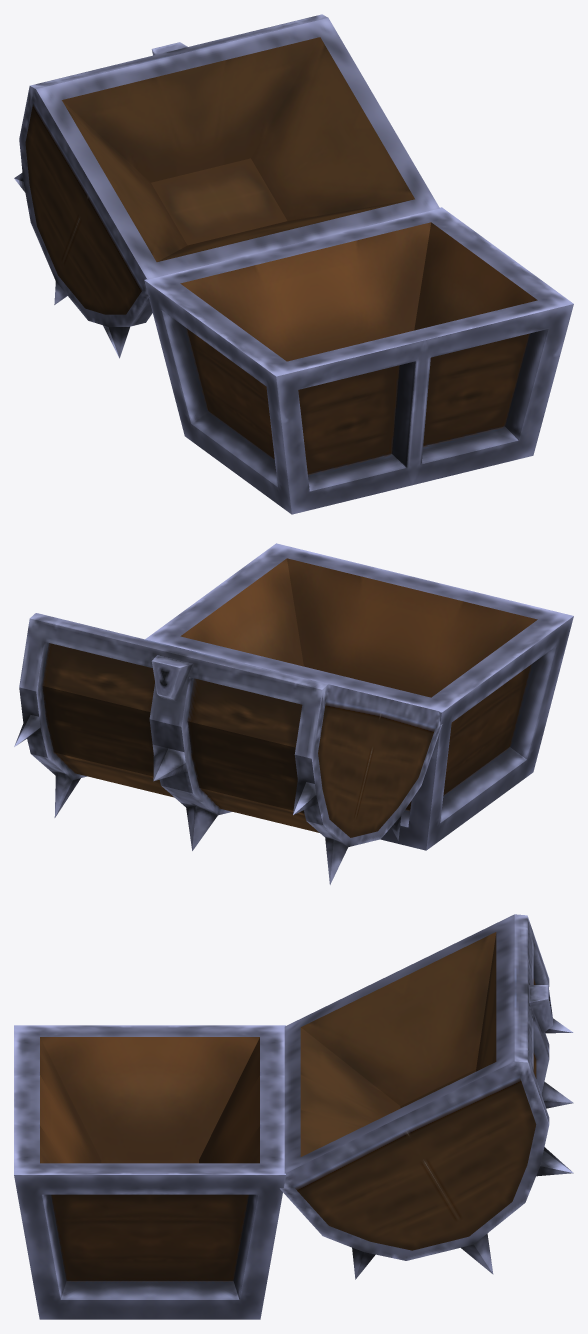
The model's file is cofre bueno_javier.fbx.
3 renders of one model, top to bottom at view 1: azimuth 30°, elevation 25°; view 2: azimuth 150°, elevation 25°; view 3: azimuth 270°, elevation 25°, orthographic. The views are drawn at different scales.
Visible parts, largest first — view 1: abajo, arriba; view 2: arriba, abajo; view 3: abajo, arriba.
Part boxes in pixels (bbox=[...]): abajo: bbox=[144, 207, 573, 514]; arriba: bbox=[14, 14, 439, 358]; arriba: bbox=[14, 613, 442, 884]; abajo: bbox=[145, 543, 573, 850]; abajo: bbox=[14, 1025, 285, 1319]; arriba: bbox=[280, 914, 573, 1279].
Bounding box in the file's own units: 200 × 169 × 316.
Materials: 2 (2 with a texture image).
